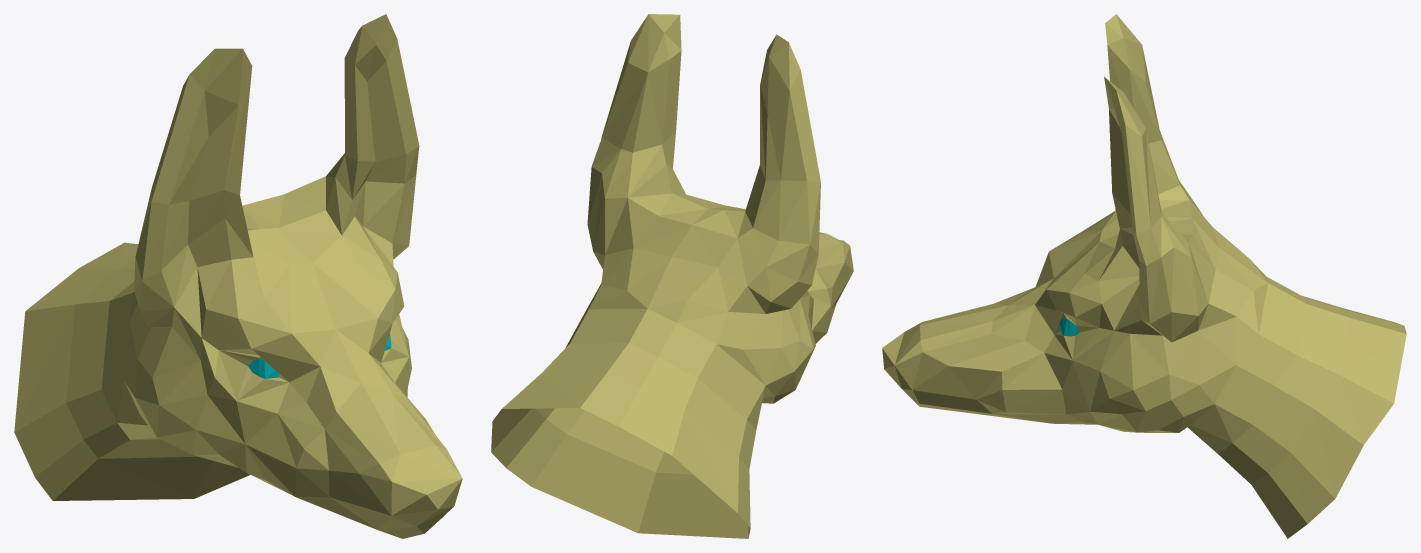
The model's file is Prop_Statue_Jackal_Face_01.FBX.
3 views of the same model, side by side, from view 1: azimuth 30°, elevation 25°; view 2: azimuth 150°, elevation 25°; view 3: azimuth 270°, elevation 25° (orthographic). The views are drawn at different scales.
Parts seen in each view (by area): view 1: Prop_Statue_Jackal_Face_01; view 2: Prop_Statue_Jackal_Face_01; view 3: Prop_Statue_Jackal_Face_01.
Part boxes in pixels (box(x1,y1,x2,y2)): Prop_Statue_Jackal_Face_01: box(14, 14, 462, 538); Prop_Statue_Jackal_Face_01: box(491, 14, 853, 538); Prop_Statue_Jackal_Face_01: box(882, 14, 1406, 538).
Size of the model in its own units: 3074 by 5287 by 5485.
